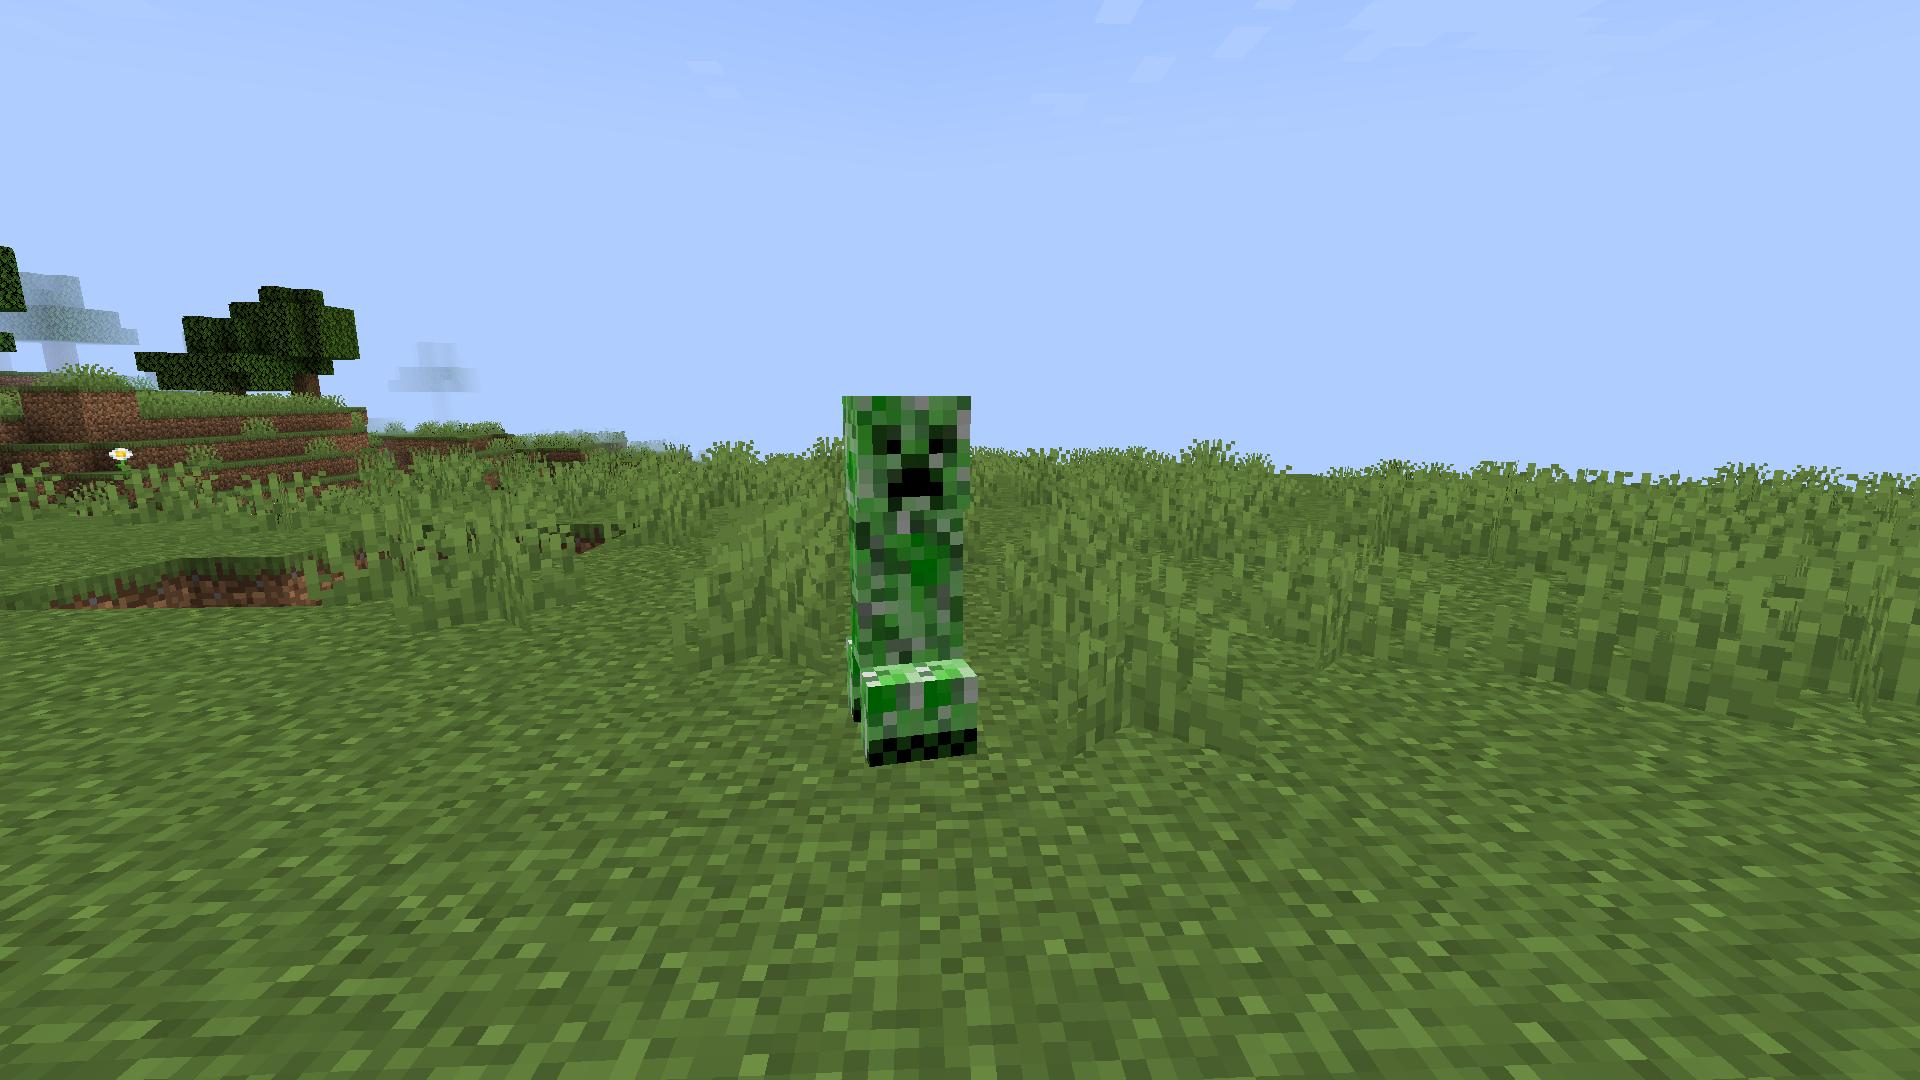creeper: (836, 384, 994, 777)
